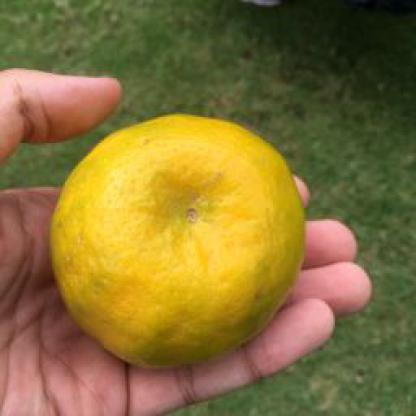orange: (49, 107, 312, 370)
